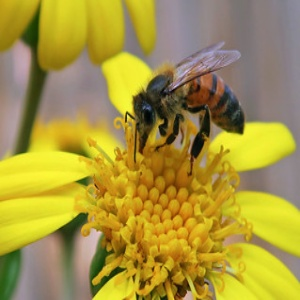bee: (131, 44, 250, 170)
